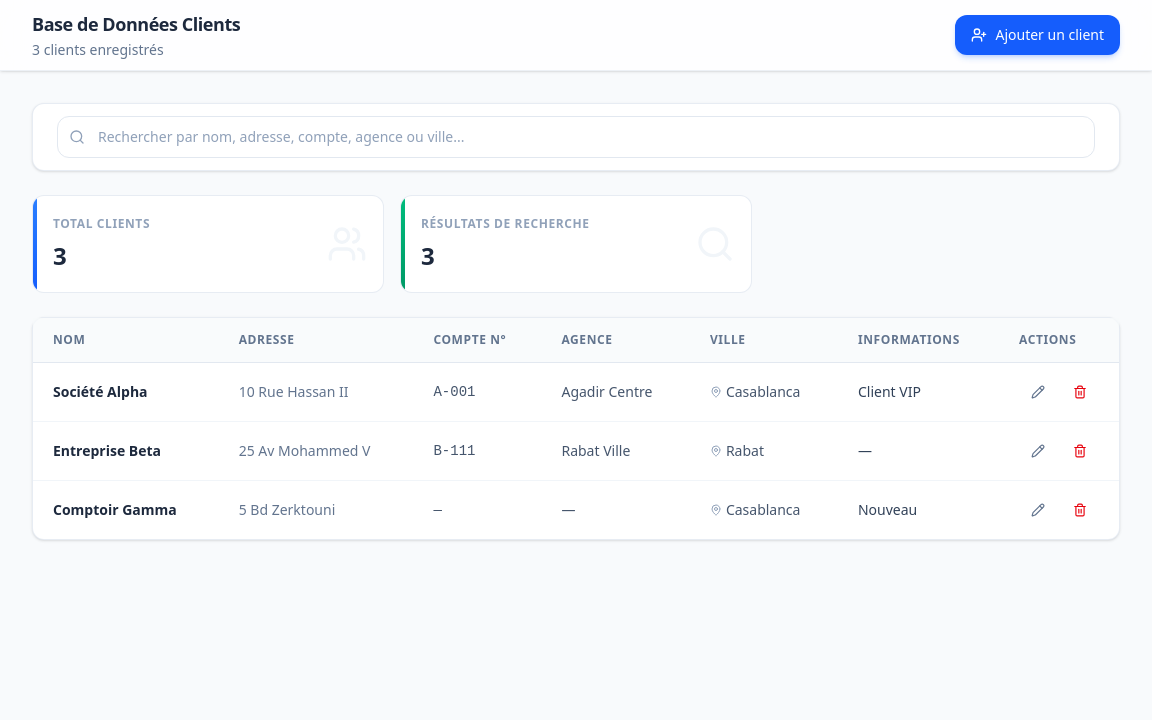
Test: CustomersPage › recherche › filtre par nom
Expected: the text "Société Alpha" is shown, [53,382,148,401]
Type "Alpha" into the field with placeholder "Rechercher par nom, adresse, compte, agence ou ville..." at point(576, 137), box [57,116,1095,158]
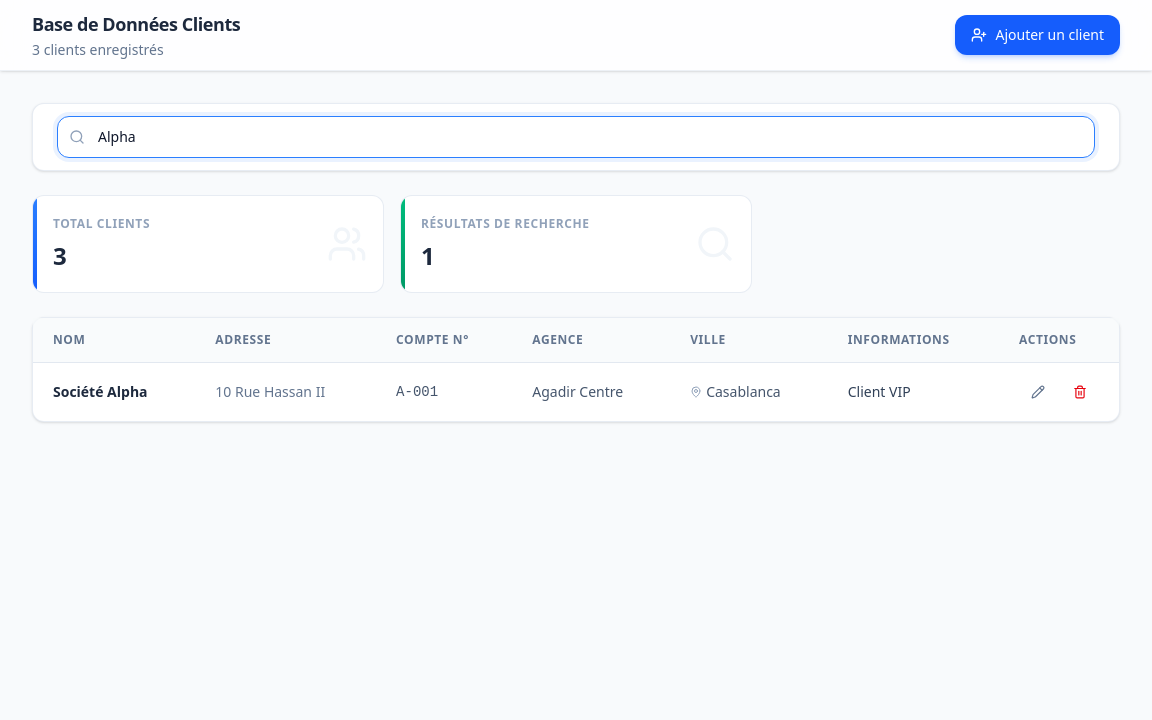
Expected: the text "Société Alpha" is shown, [53,382,148,401]
Now the text "Entreprise Beta" is gone
